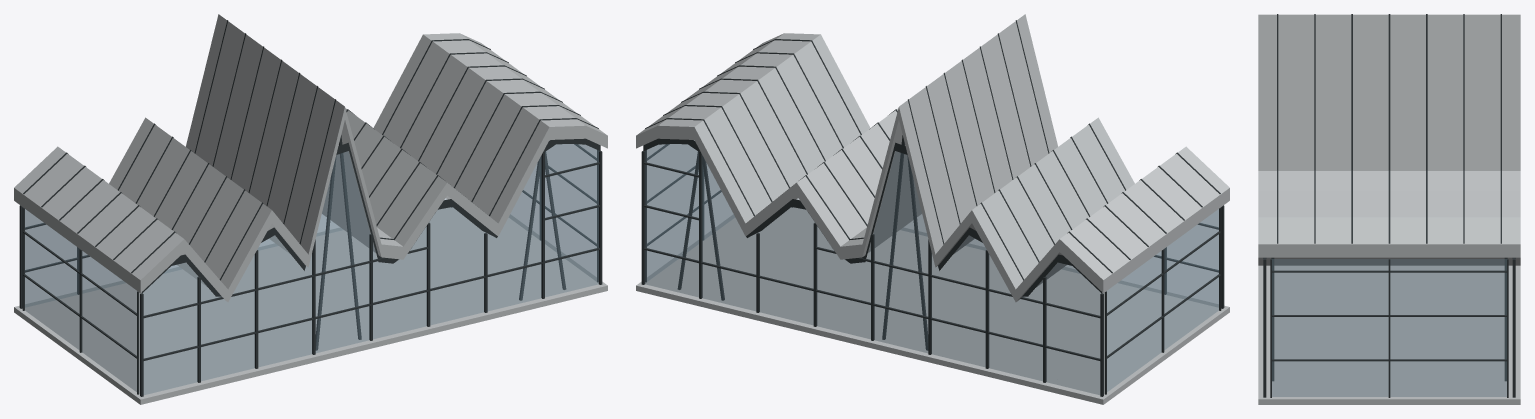
The model's file is riverside.lod1.glb.
The picture shows the model from 3 angles, left to right: view 1: azimuth 30°, elevation 25°; view 2: azimuth 150°, elevation 25°; view 3: azimuth 270°, elevation 25°; orthographic projection. The views are drawn at different scales.
Parts seen in each view (by area): view 1: Mass, Glass, Trim; view 2: Mass, Glass, Trim; view 3: Mass, Glass, Trim.
Boxes of the visible parts, <box> form: Mass: <box>14,14,607,404</box>; Glass: <box>25,140,598,394</box>; Trim: <box>19,20,602,396</box>; Mass: <box>636,14,1229,404</box>; Glass: <box>645,140,1218,394</box>; Trim: <box>641,20,1224,396</box>; Mass: <box>1258,14,1520,404</box>; Glass: <box>1272,259,1506,396</box>; Trim: <box>1263,14,1515,397</box>.
Bounding box in the file's own units: 32 × 16.3 × 15.
